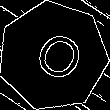O_SW: (22, 23, 85, 89)
